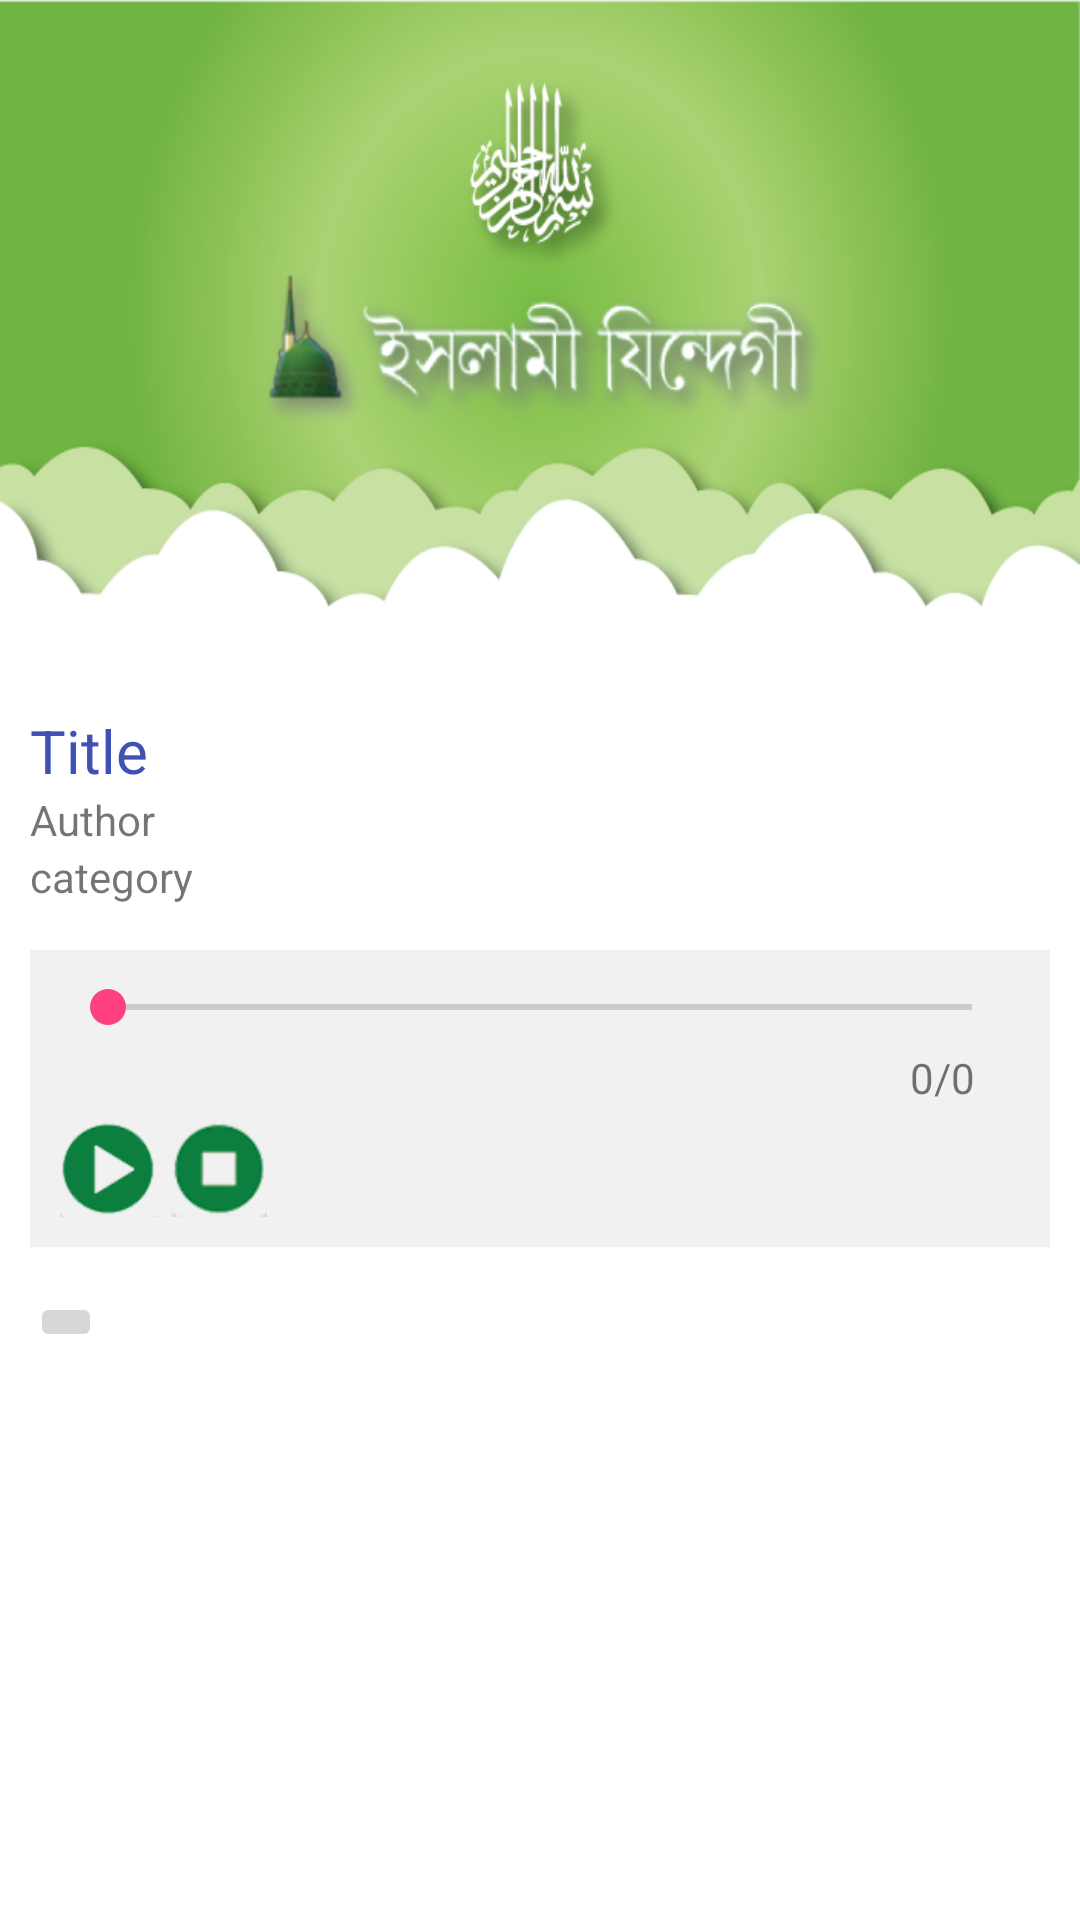

Icons on this 1080*1920 Android screen, each with its box as (x1, y1, x2, y2):
play: (62, 1123, 156, 1217)
stop: (174, 1124, 267, 1217)
